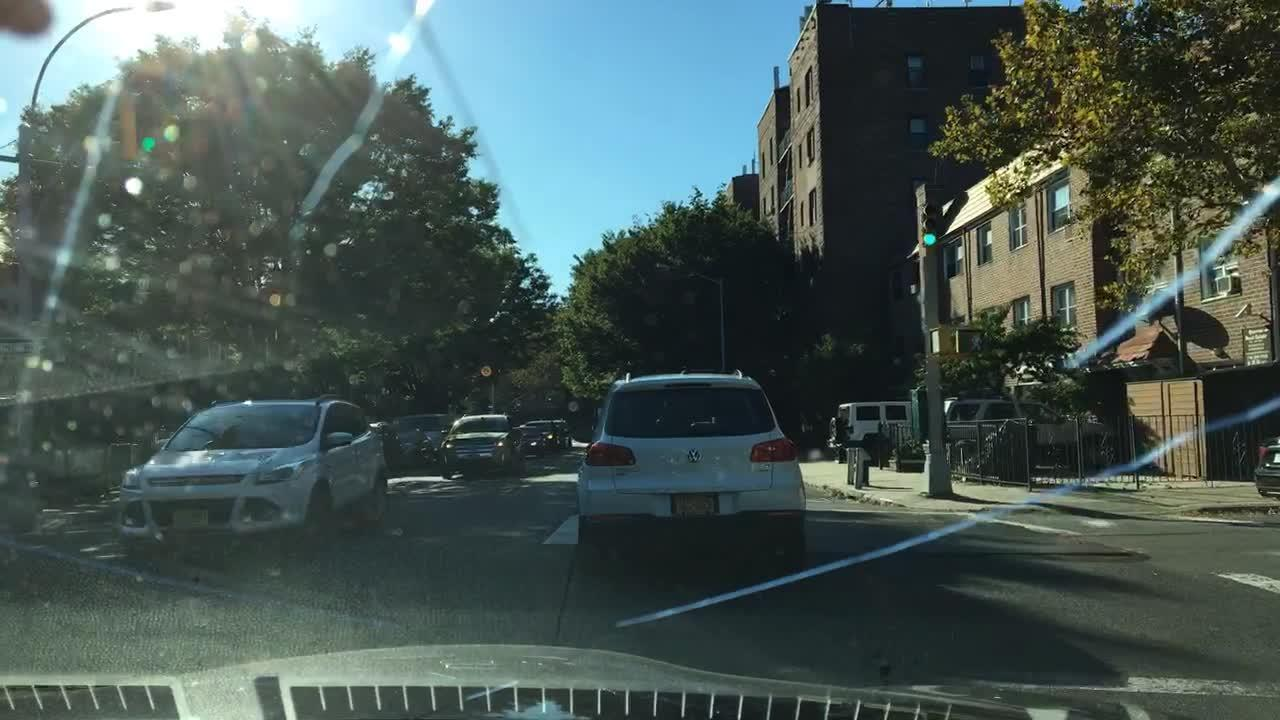Volkswagen: (682, 446, 704, 468)
